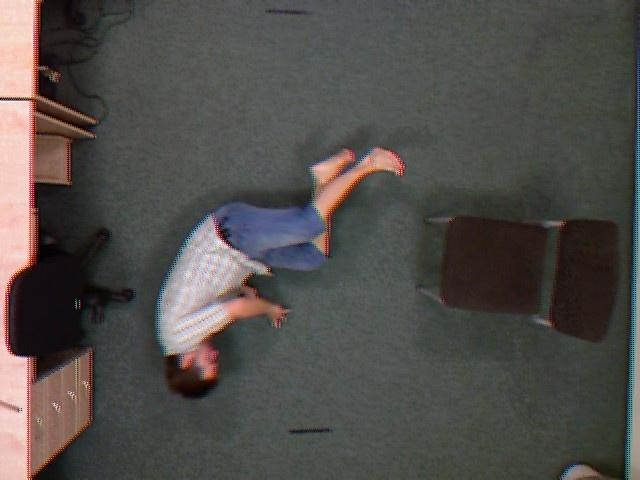fall: (152, 142, 407, 403)
